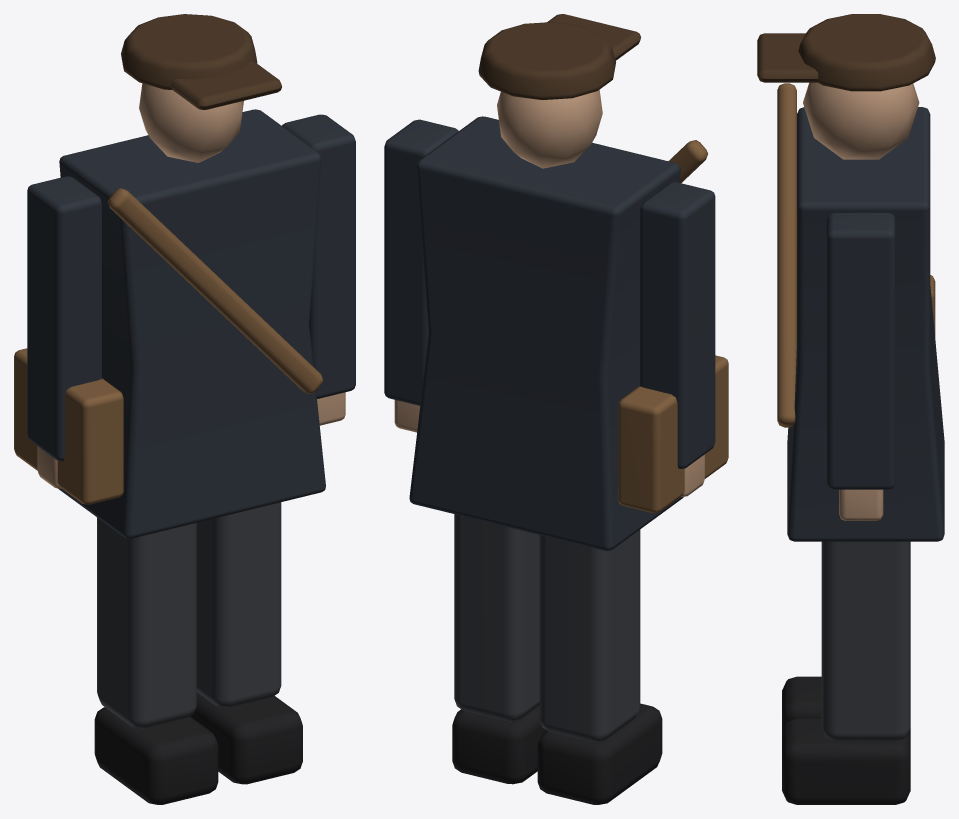
File: koerier.glb
3 renders of one model, left to right at view 1: azimuth 30°, elevation 25°; view 2: azimuth 150°, elevation 25°; view 3: azimuth 270°, elevation 25°, orthographic.
Visible parts, largest first — view 1: Koerier, LegL, LegR; view 2: Koerier, LegL, LegR; view 3: Koerier, LegR, LegL.
Boxes of the visible parts, x1=… form: Koerier: x1=14, y1=14, x2=355, y2=538; LegL: x1=94, y1=517, x2=218, y2=804; LegR: x1=190, y1=502, x2=302, y2=784; Koerier: x1=384, y1=14, x2=728, y2=550; LegL: x1=537, y1=529, x2=662, y2=804; LegR: x1=452, y1=514, x2=545, y2=784; Koerier: x1=757, y1=14, x2=944, y2=541; LegR: x1=782, y1=541, x2=910, y2=804; LegL: x1=782, y1=676, x2=910, y2=731.
Size of the model in its own units: 0.71 by 1.64 by 0.3788.
